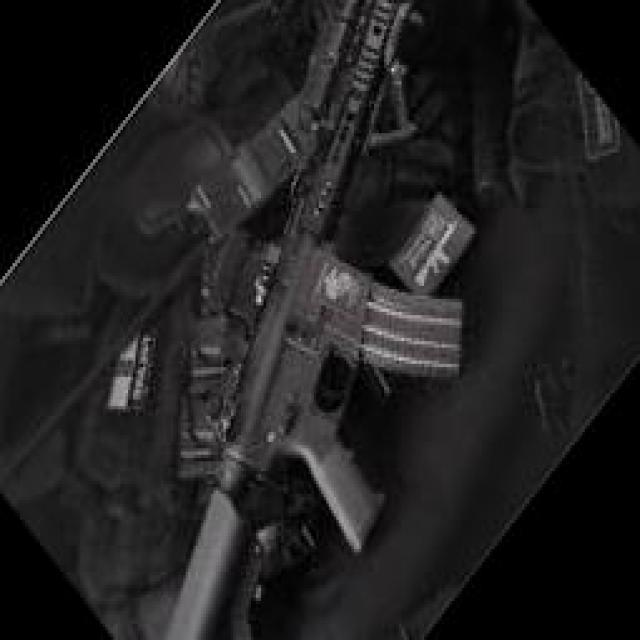weapon: (156, 0, 466, 640)
